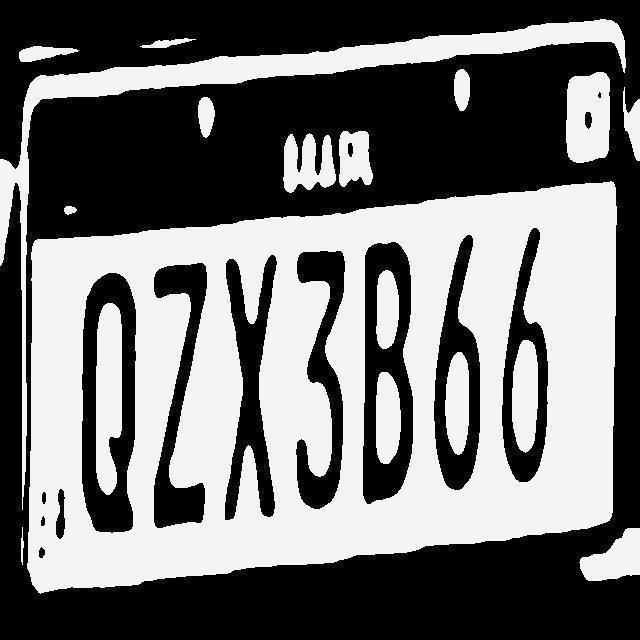3: (290, 246, 346, 514)
6: (498, 225, 552, 485), (430, 232, 482, 494)
b: (355, 238, 417, 506)
q: (76, 267, 140, 536)
x: (220, 251, 282, 524)
z: (150, 262, 210, 530)
